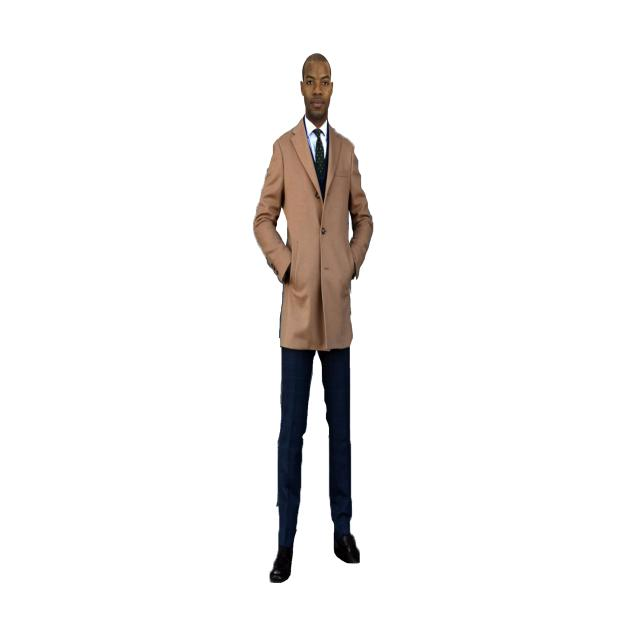jovem: (248, 47, 392, 583)
